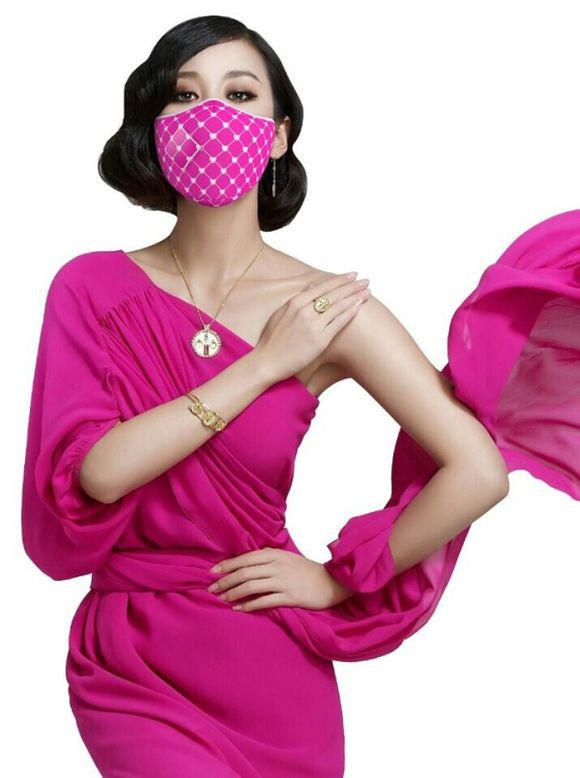OK: (156, 71, 278, 189)
